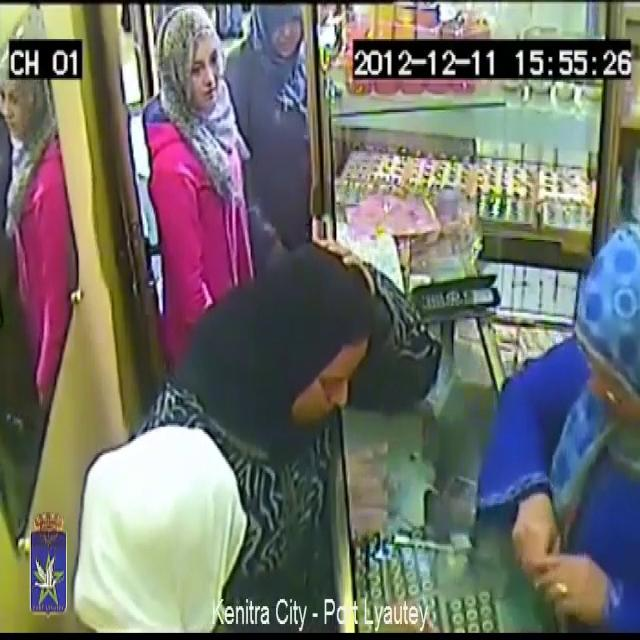normal: (459, 189, 640, 640), (76, 404, 344, 640), (133, 2, 246, 317), (268, 227, 399, 444), (228, 0, 314, 192)
